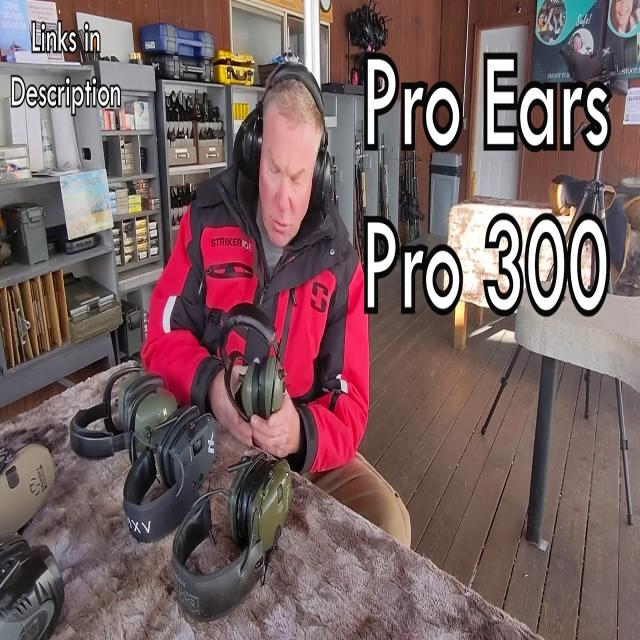earmuff: (0, 437, 58, 539), (243, 451, 293, 564), (165, 406, 219, 499), (226, 442, 268, 551), (153, 396, 200, 489), (122, 386, 180, 450), (116, 366, 166, 422), (258, 343, 288, 422), (237, 110, 265, 190), (309, 146, 335, 217), (236, 355, 259, 430)
